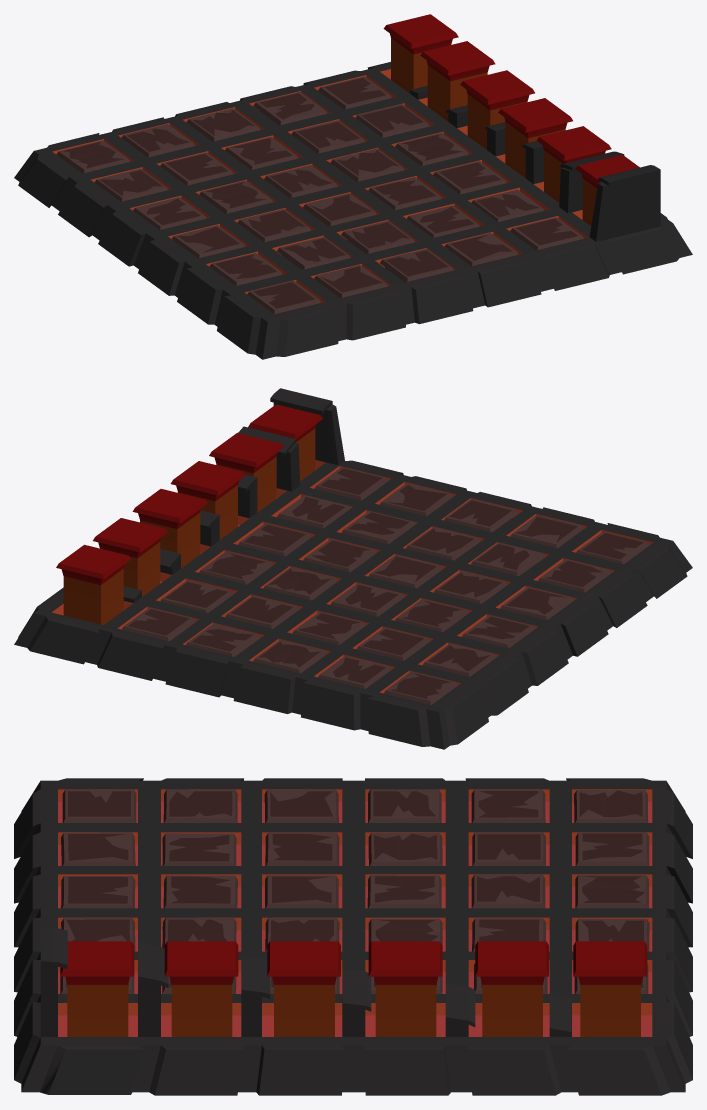
File: cijferpuzzel segment 2.fbx
The picture shows the model from 3 angles, top to bottom: view 1: azimuth 30°, elevation 25°; view 2: azimuth 150°, elevation 25°; view 3: azimuth 270°, elevation 25°; orthographic projection. The views are drawn at different scales.
Visible parts, largest first — view 1: pCube3, pCube77, pCube78, pCube76, pCube75, pCube74, pCube73, pCube64, pCube53, pCube67, pCube57, pCube61 (+25 smaller); view 2: pCube3, pCube78, pCube76, pCube77, pCube75, pCube74, pCube73, pCube51, pCube61, pCube64, pCube59, pCube46 (+25 smaller); view 3: pCube3, pCube74, pCube76, pCube78, pCube77, pCube75, pCube73, pCube55, pCube37, pCube48, pCube52, pCube35 (+19 smaller).
Part boxes in pixels (bbox=[...]): pCube3: bbox=[14, 62, 692, 359]; pCube77: bbox=[420, 41, 495, 121]; pCube78: bbox=[383, 14, 458, 93]; pCube76: bbox=[460, 70, 534, 149]; pCube75: bbox=[498, 98, 572, 177]; pCube74: bbox=[536, 126, 611, 202]; pCube73: bbox=[575, 154, 639, 225]; pCube64: bbox=[380, 248, 453, 282]; pCube53: bbox=[253, 92, 327, 125]; pCube67: bbox=[355, 104, 429, 137]; pCube57: bbox=[330, 148, 404, 181]; pCube61: bbox=[341, 221, 414, 254]; pCube3: bbox=[14, 388, 692, 749]; pCube78: bbox=[56, 544, 130, 624]; pCube76: bbox=[132, 489, 207, 568]; pCube77: bbox=[93, 518, 167, 596]; pCube75: bbox=[170, 461, 245, 539]; pCube74: bbox=[209, 433, 283, 512]; pCube73: bbox=[248, 404, 322, 481]; pCube51: bbox=[471, 542, 544, 576]; pCube61: bbox=[406, 527, 480, 560]; pCube64: bbox=[444, 499, 518, 532]; pCube59: bbox=[368, 555, 442, 588]; pCube46: bbox=[384, 671, 457, 704]; pCube3: bbox=[14, 778, 692, 1095]; pCube74: bbox=[164, 941, 238, 1036]; pCube76: bbox=[368, 941, 442, 1036]; pCube78: bbox=[573, 941, 647, 1036]; pCube77: bbox=[475, 941, 548, 1036]; pCube75: bbox=[267, 941, 340, 1036]; pCube73: bbox=[60, 941, 134, 1036]; pCube55: bbox=[471, 874, 545, 908]; pCube37: bbox=[62, 789, 136, 822]; pCube48: bbox=[575, 832, 649, 865]; pCube52: bbox=[265, 832, 339, 865]; pCube35: bbox=[471, 789, 545, 822].
Bounding box in the file's own units: 27.28 × 5.18 × 27.28.
